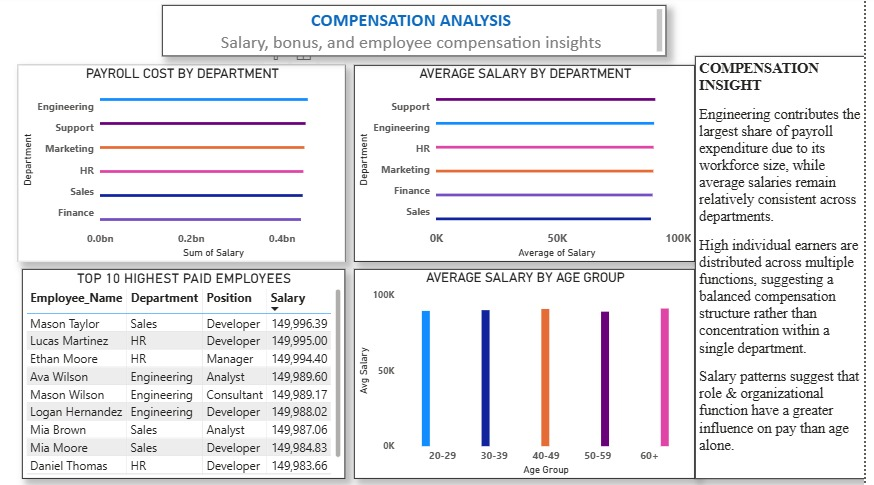

What the dashboard file says about the page in this screenshot:
{"tool":"powerbi","page":{"name":"COMPENSATION ANALYSIS","canvas":[1280,720],"ordinal":1},"visuals":[{"type":"clusteredBarChart","title":"PAYROLL COST BY DEPARTMENT","fields":{"Category":["hr_analytics employee_records.Department"],"Y":["Sum(hr_analytics employee_records.Salary)"],"Series":["hr_analytics employee_records.Department"]},"box":[41,101,478.5,288.3],"z":0},{"type":"clusteredBarChart","title":"AVERAGE SALARY BY DEPARTMENT","fields":{"Category":["hr_analytics employee_records.Department"],"Y":["Avg(hr_analytics employee_records.Salary)"],"Series":["hr_analytics employee_records.Department"]},"box":[532.7,101,499,288.3],"z":1000},{"type":"tableEx","title":"TOP 10 HIGHEST PAID EMPLOYEES","fields":{"Values":["hr_analytics employee_records.Employee_Name","hr_analytics employee_records.Department","hr_analytics employee_records.Position","hr_analytics employee_records.Salary"]},"box":[46.8,399.5,472.7,307.3],"z":2000},{"type":"clusteredColumnChart","title":"AVERAGE SALARY BY AGE GROUP","fields":{"Category":["hr_analytics employee_records.Age Group"],"Y":["hr_analytics employee_records.Avg Salary"],"Series":["hr_analytics employee_records.Age Group"]},"box":[532.7,399.5,499,307.3],"z":3000},{"type":"textbox","box":[1031.7,87.8,248.8,619],"z":4000},{"type":"textbox","box":[251.7,13.2,737.6,74.6],"z":4001}]}

Visuals, with their boxes in screenshot pixels (x1, y1, x2, y2), scaled from the page's 1280x720 canvas onto the 874x485 screenshot:
"PAYROLL COST BY DEPARTMENT" clusteredBarChart: bbox=[28, 68, 355, 262]
"AVERAGE SALARY BY DEPARTMENT" clusteredBarChart: bbox=[364, 68, 704, 262]
"TOP 10 HIGHEST PAID EMPLOYEES" tableEx: bbox=[32, 269, 355, 476]
"AVERAGE SALARY BY AGE GROUP" clusteredColumnChart: bbox=[364, 269, 704, 476]
textbox: bbox=[704, 59, 873, 476]
textbox: bbox=[172, 9, 676, 59]
